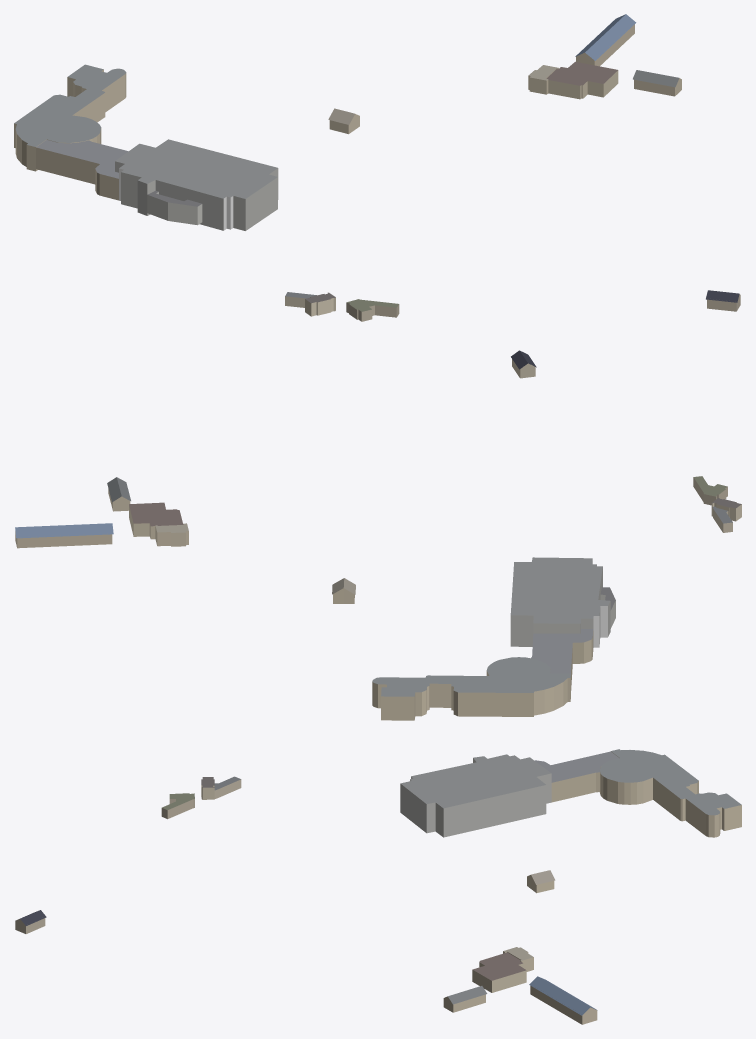
The picture shows the model from 3 angles, top to bottom: view 1: azimuth 30°, elevation 25°; view 2: azimuth 150°, elevation 25°; view 3: azimuth 270°, elevation 25°; orthographic projection. The views are drawn at different scales.
Visible parts, largest first — view 1: tuile; view 2: tuile; view 3: tuile.
Boxes of the visible parts, x1=… form: tuile: x1=14, y1=14, x2=740, y2=321; tuile: x1=15, y1=350, x2=741, y2=720; tuile: x1=15, y1=749, x2=741, y2=1024.
Size of the model in its own units: 216 by 12.09 by 255.
